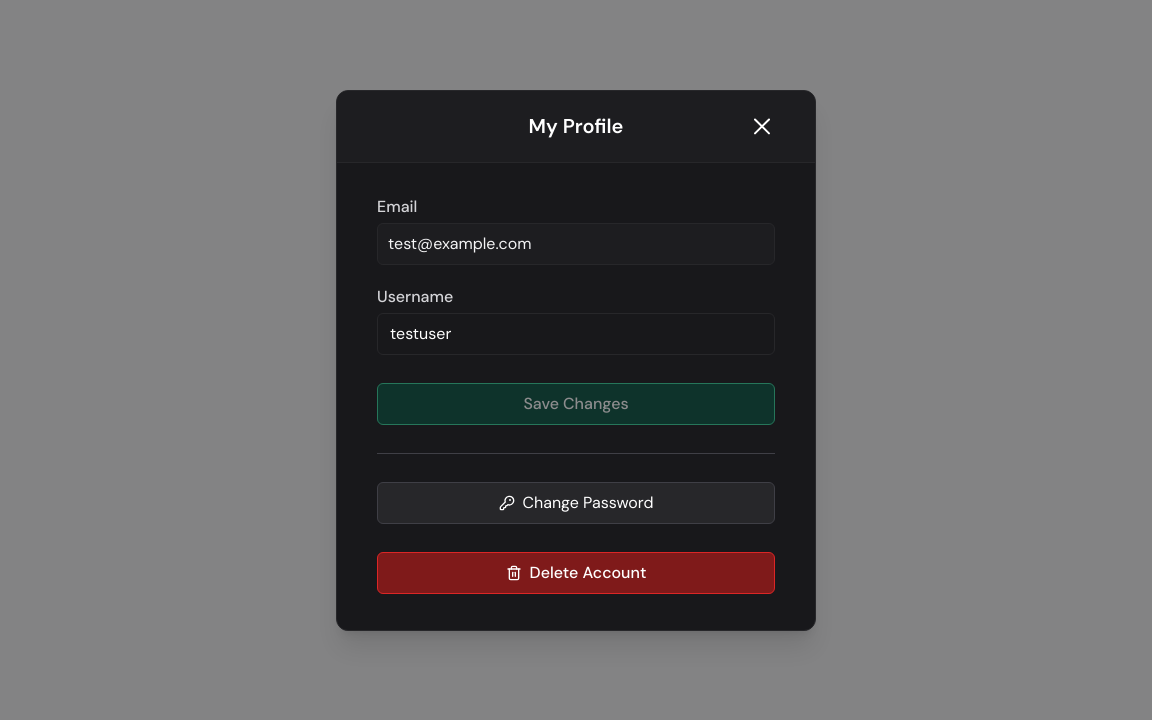
Test: AccountModal › allows canceling delete confirmation
This screenshot has width=1152, height=720.
Click the button "Delete Account" at (576, 572), box [377,552,775,594]
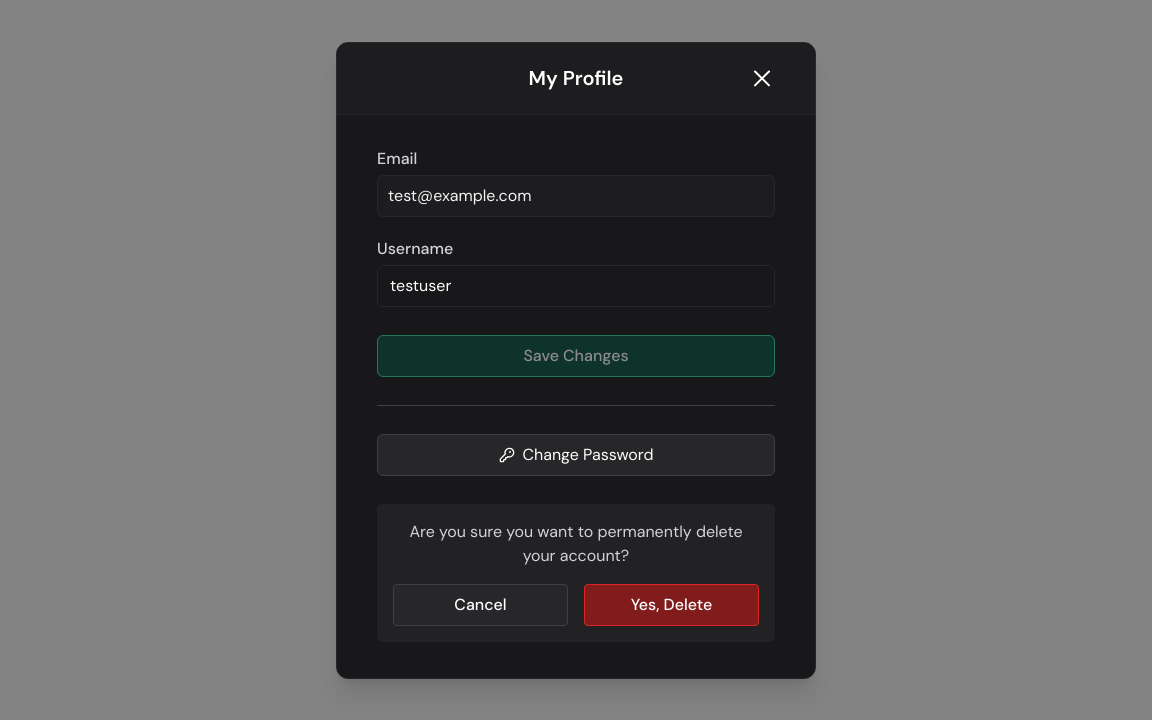
Click the button "Cancel" at (480, 604), box [393,584,568,626]
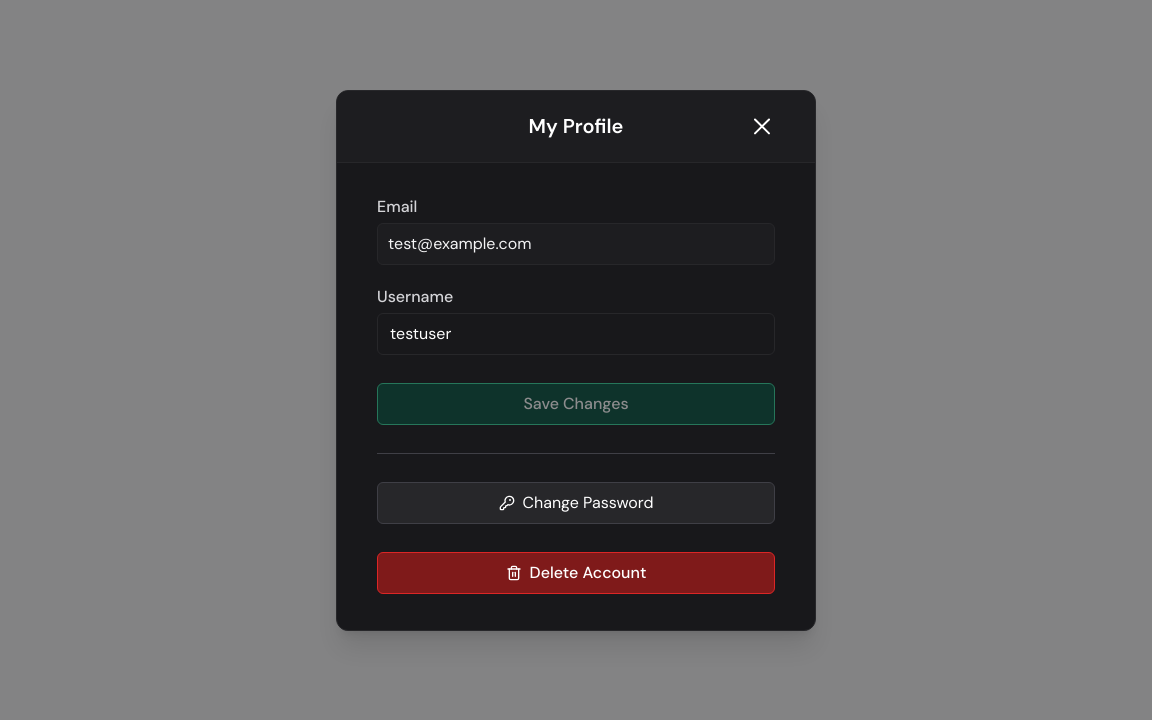
expect the text "Are you sure you want to permanently delete" is gone: met
